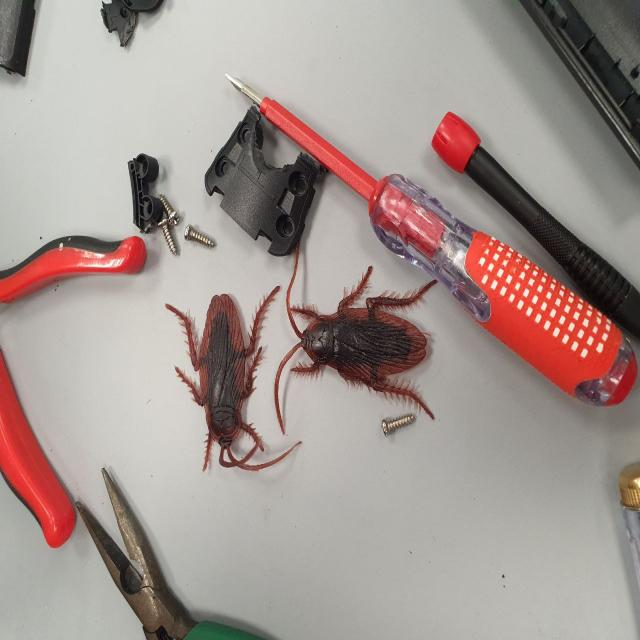Cockroach: (278, 221, 440, 434), (159, 279, 287, 485)
